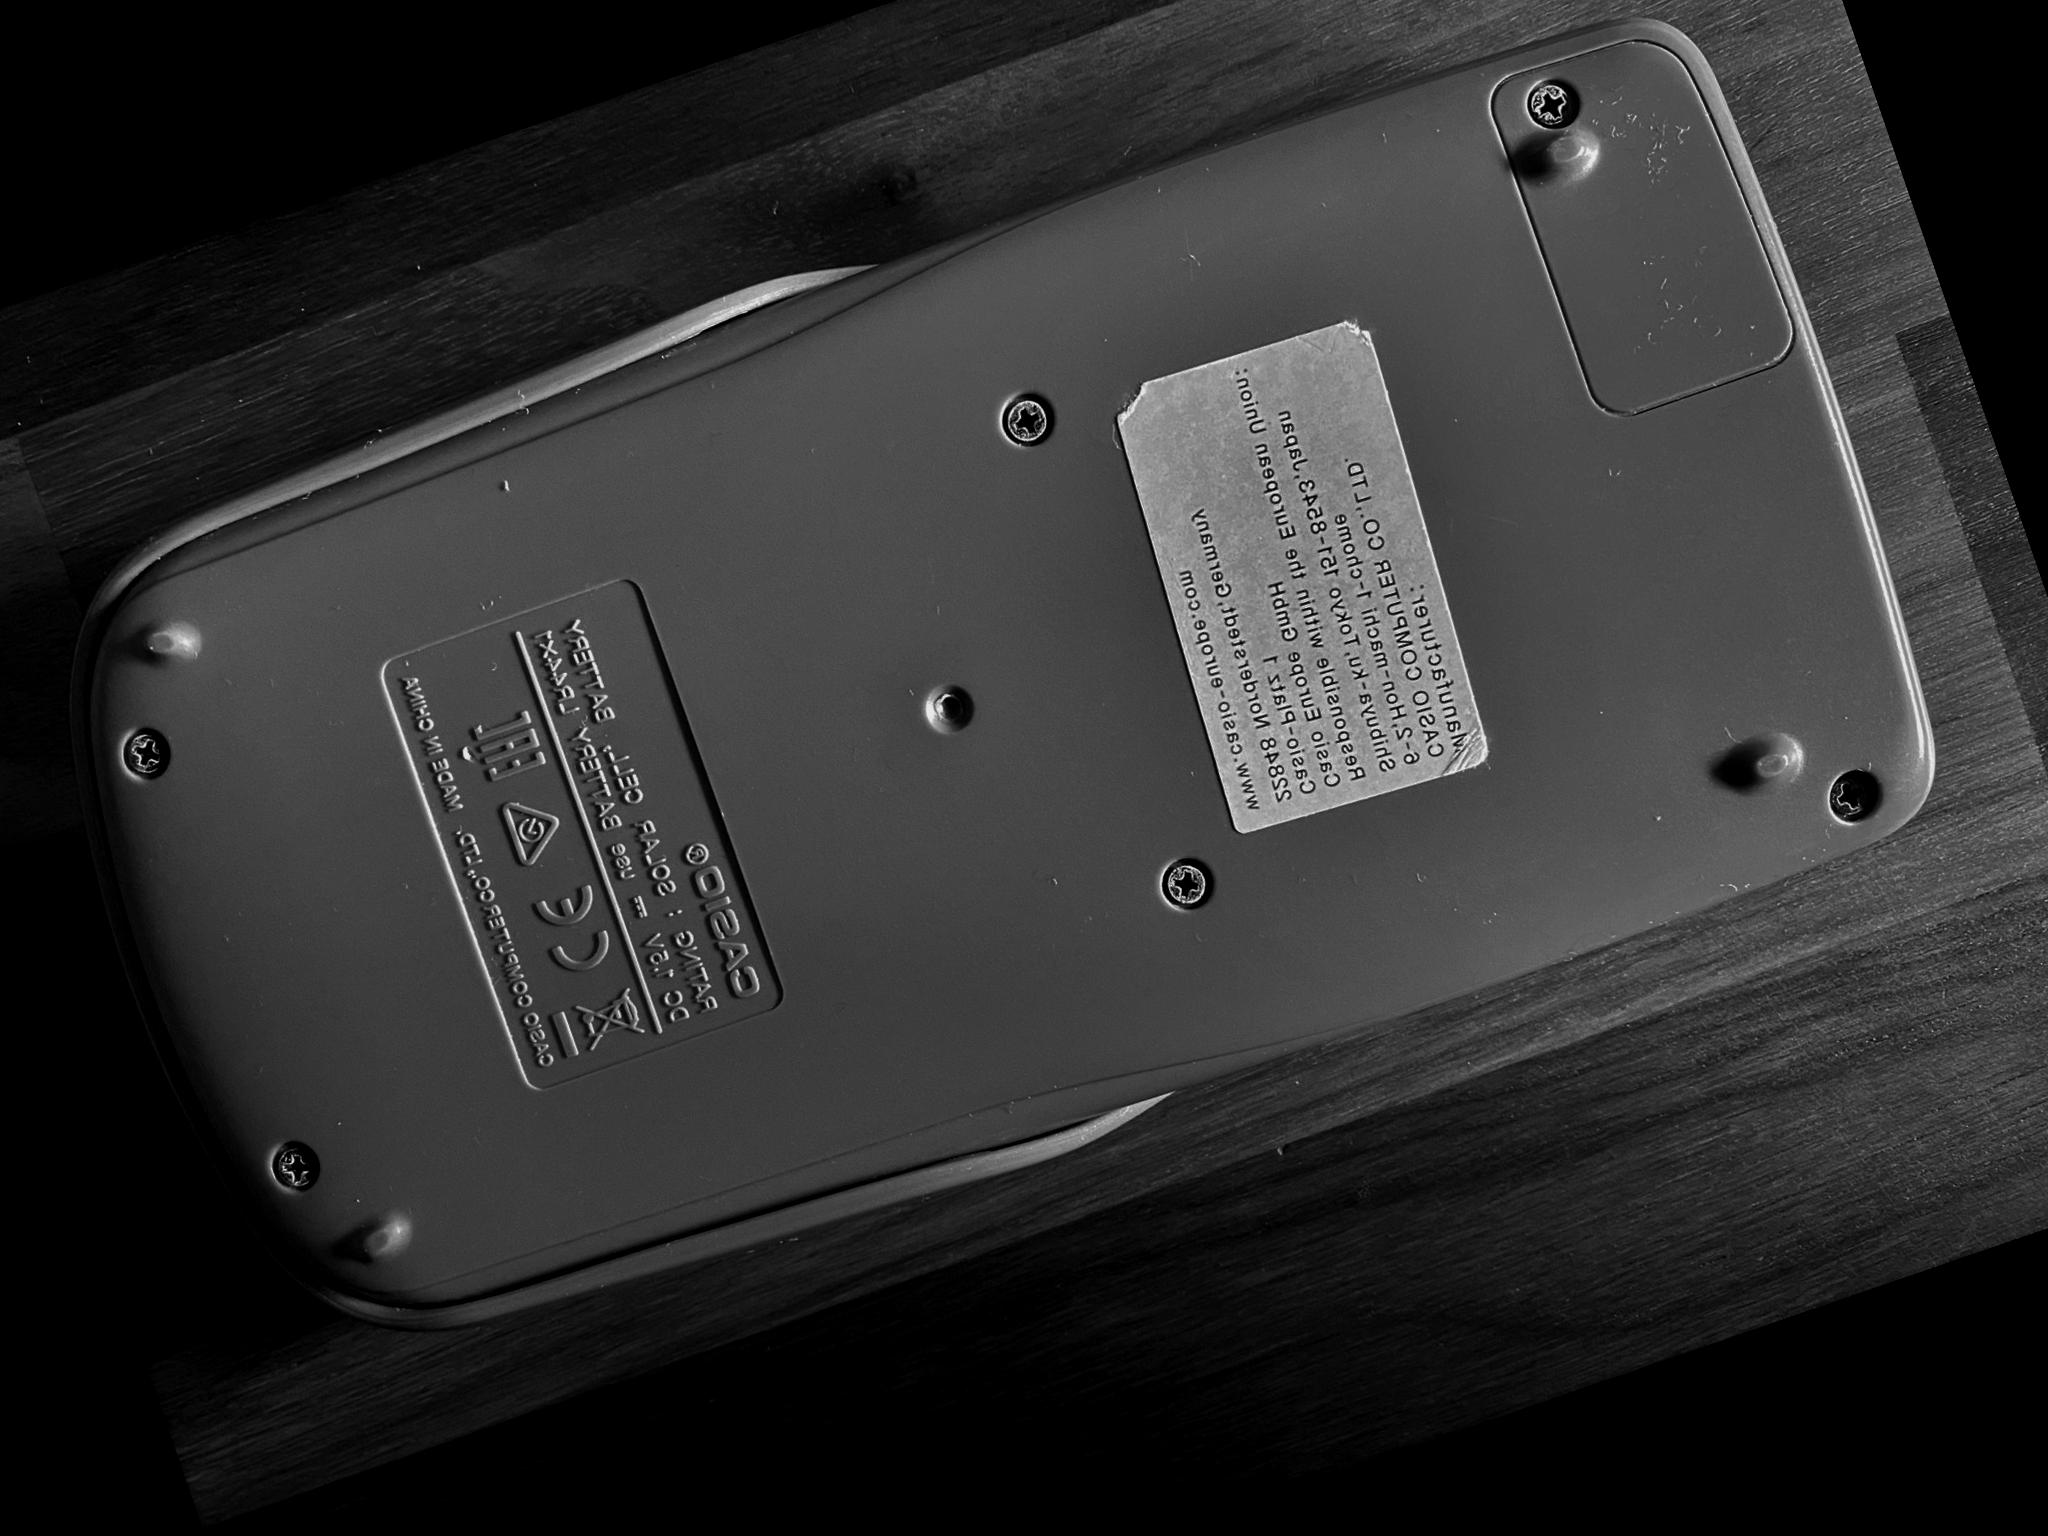screw: (266, 1134, 329, 1199), (1521, 71, 1582, 134), (1158, 852, 1216, 913), (118, 723, 176, 783), (1822, 765, 1880, 823), (998, 392, 1055, 450)
